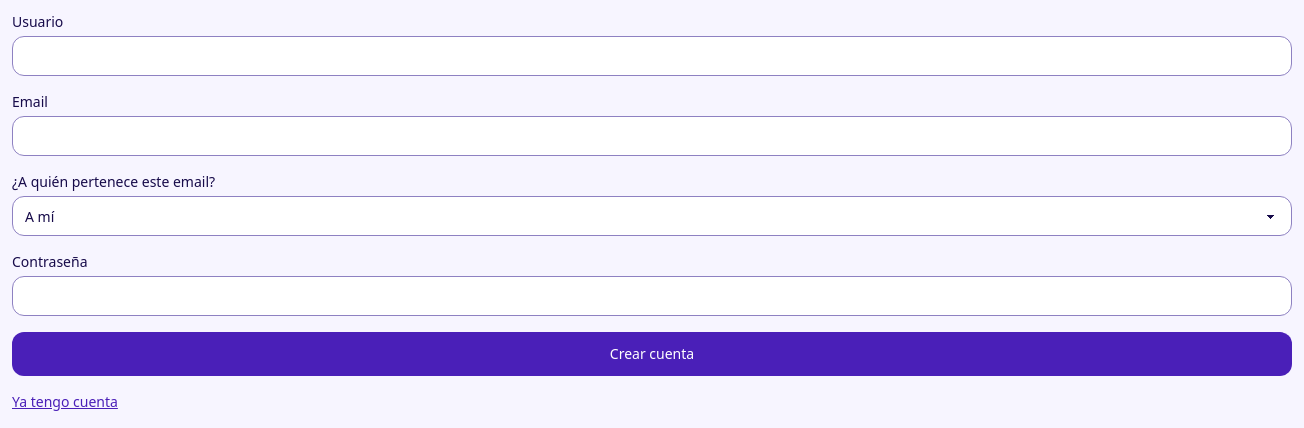
Scenario: RegisterForm › disables the submit button and shows the pending label while the action runs
In the field labelled "Usuario": (652, 56) [12, 36, 1292, 76], type "ada_lovelace"
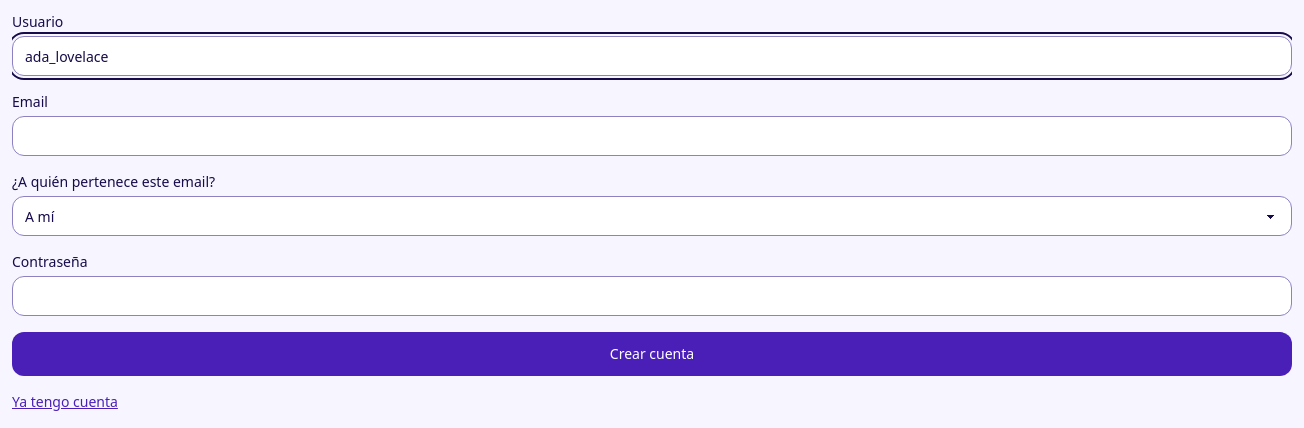
In the field labelled "Email": (652, 136) [12, 116, 1292, 156], type "ada@example.com"
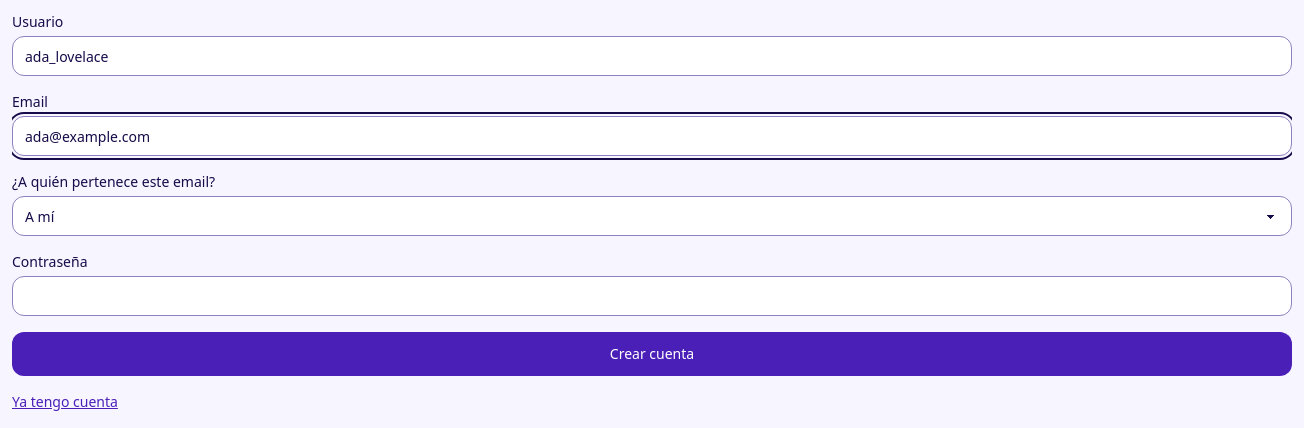
Select "A mi tutor/a" in the dropdown labelled "¿A quién pertenece este email?": (652, 216) [12, 196, 1292, 236]
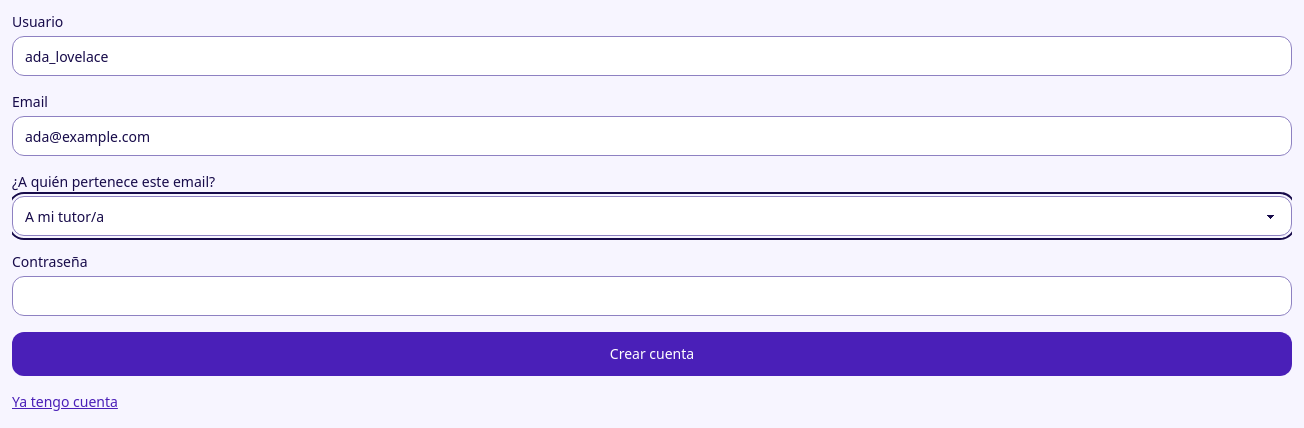
In the password field labelled "Contraseña": (652, 296) [12, 276, 1292, 316], type "supersecret1"
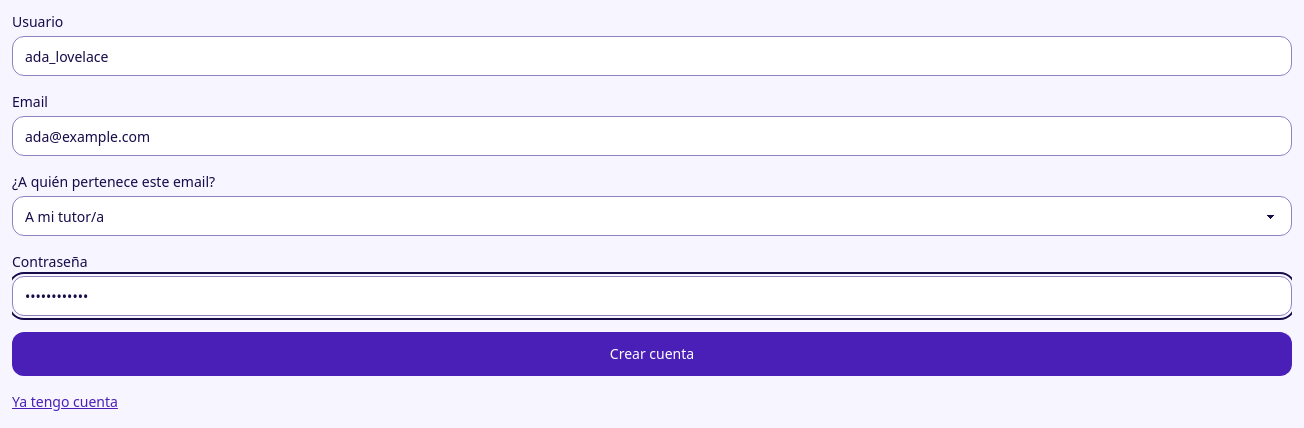
Click the button "Crear cuenta": (652, 354) [12, 332, 1292, 376]
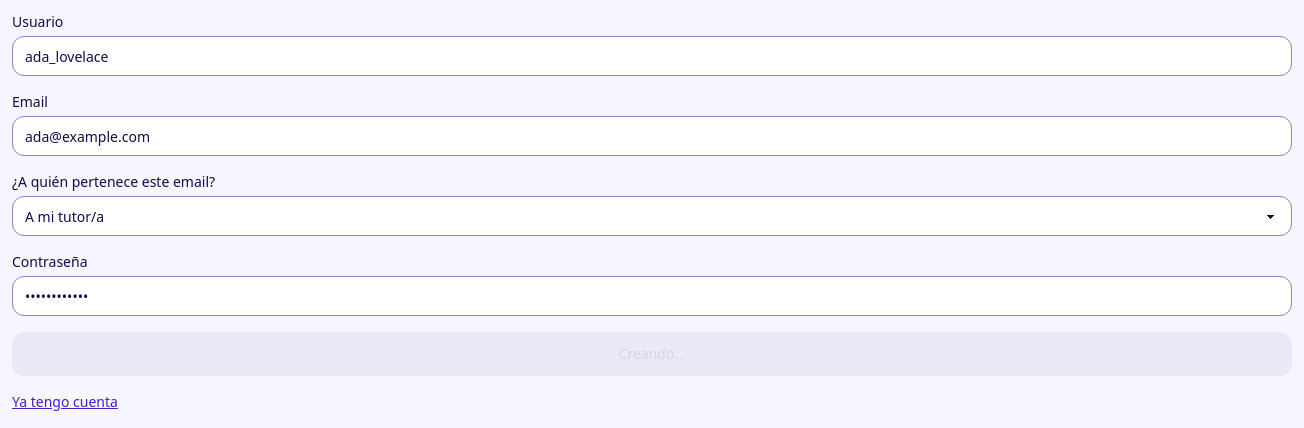
Expected: the button "Creando…" is disabled, [12, 332, 1292, 376]
